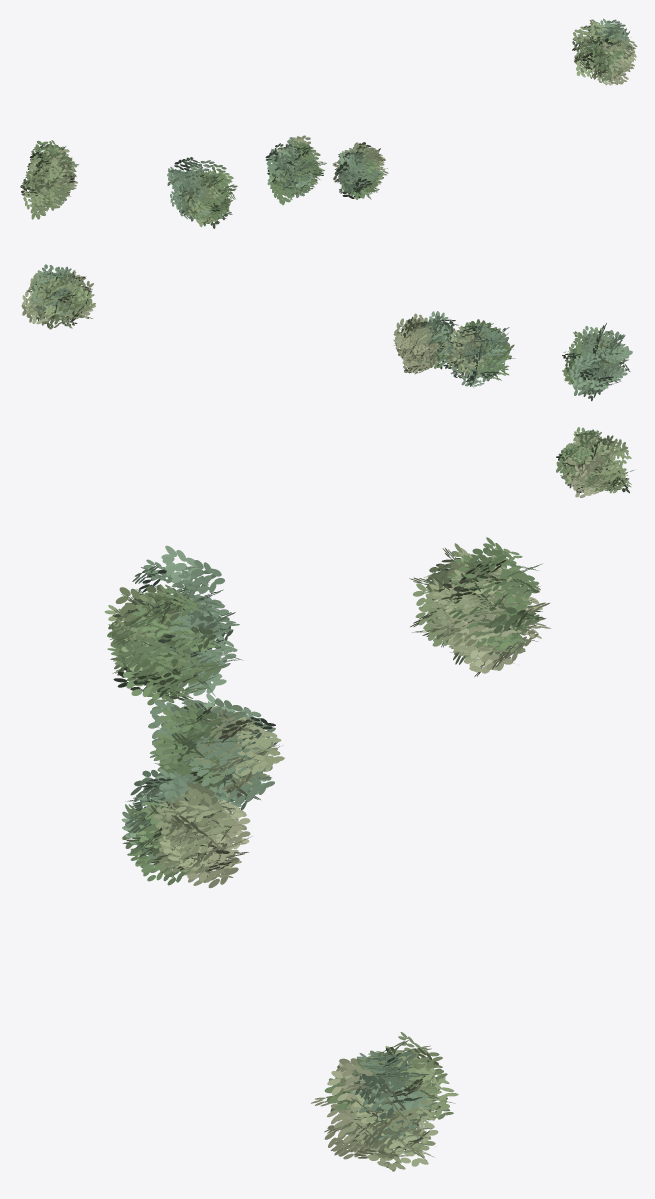
Rendered from campus-tree-5_-4-middle.glb.
The picture shows the model from 3 angles, top to bottom: view 1: azimuth 30°, elevation 25°; view 2: azimuth 150°, elevation 25°; view 3: azimuth 270°, elevation 25°; orthographic projection. The views are drawn at different scales.
Parts seen in each view (by area): view 1: Campus leaf canopy; view 2: Campus leaf canopy; view 3: Campus leaf canopy.
Part boxes in pixels (<box>): Campus leaf canopy: <box>20,18,637,228</box>; Campus leaf canopy: <box>21,264,634,497</box>; Campus leaf canopy: <box>104,537,550,1171</box>.
Size of the model in its own units: 51.39 by 7.98 by 16.58.
Materials: 1 (1 with a texture image).
